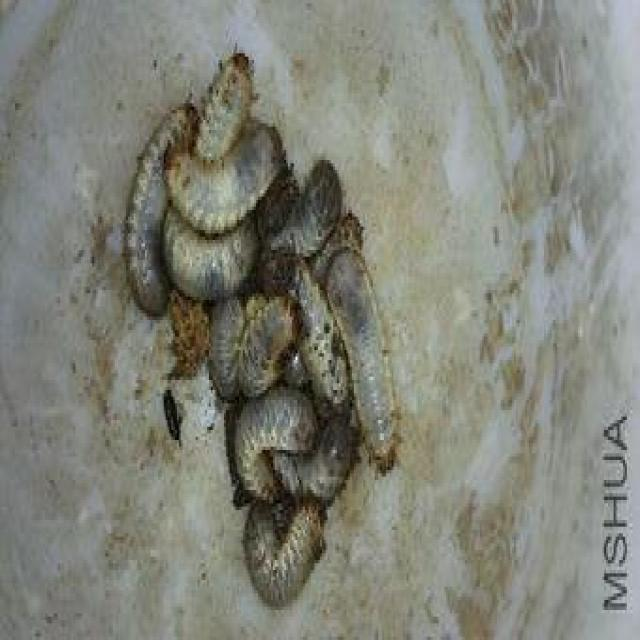Grub-Adult-: (110, 99, 202, 328), (326, 250, 410, 487), (162, 118, 284, 238), (224, 377, 317, 503), (239, 492, 333, 596)
